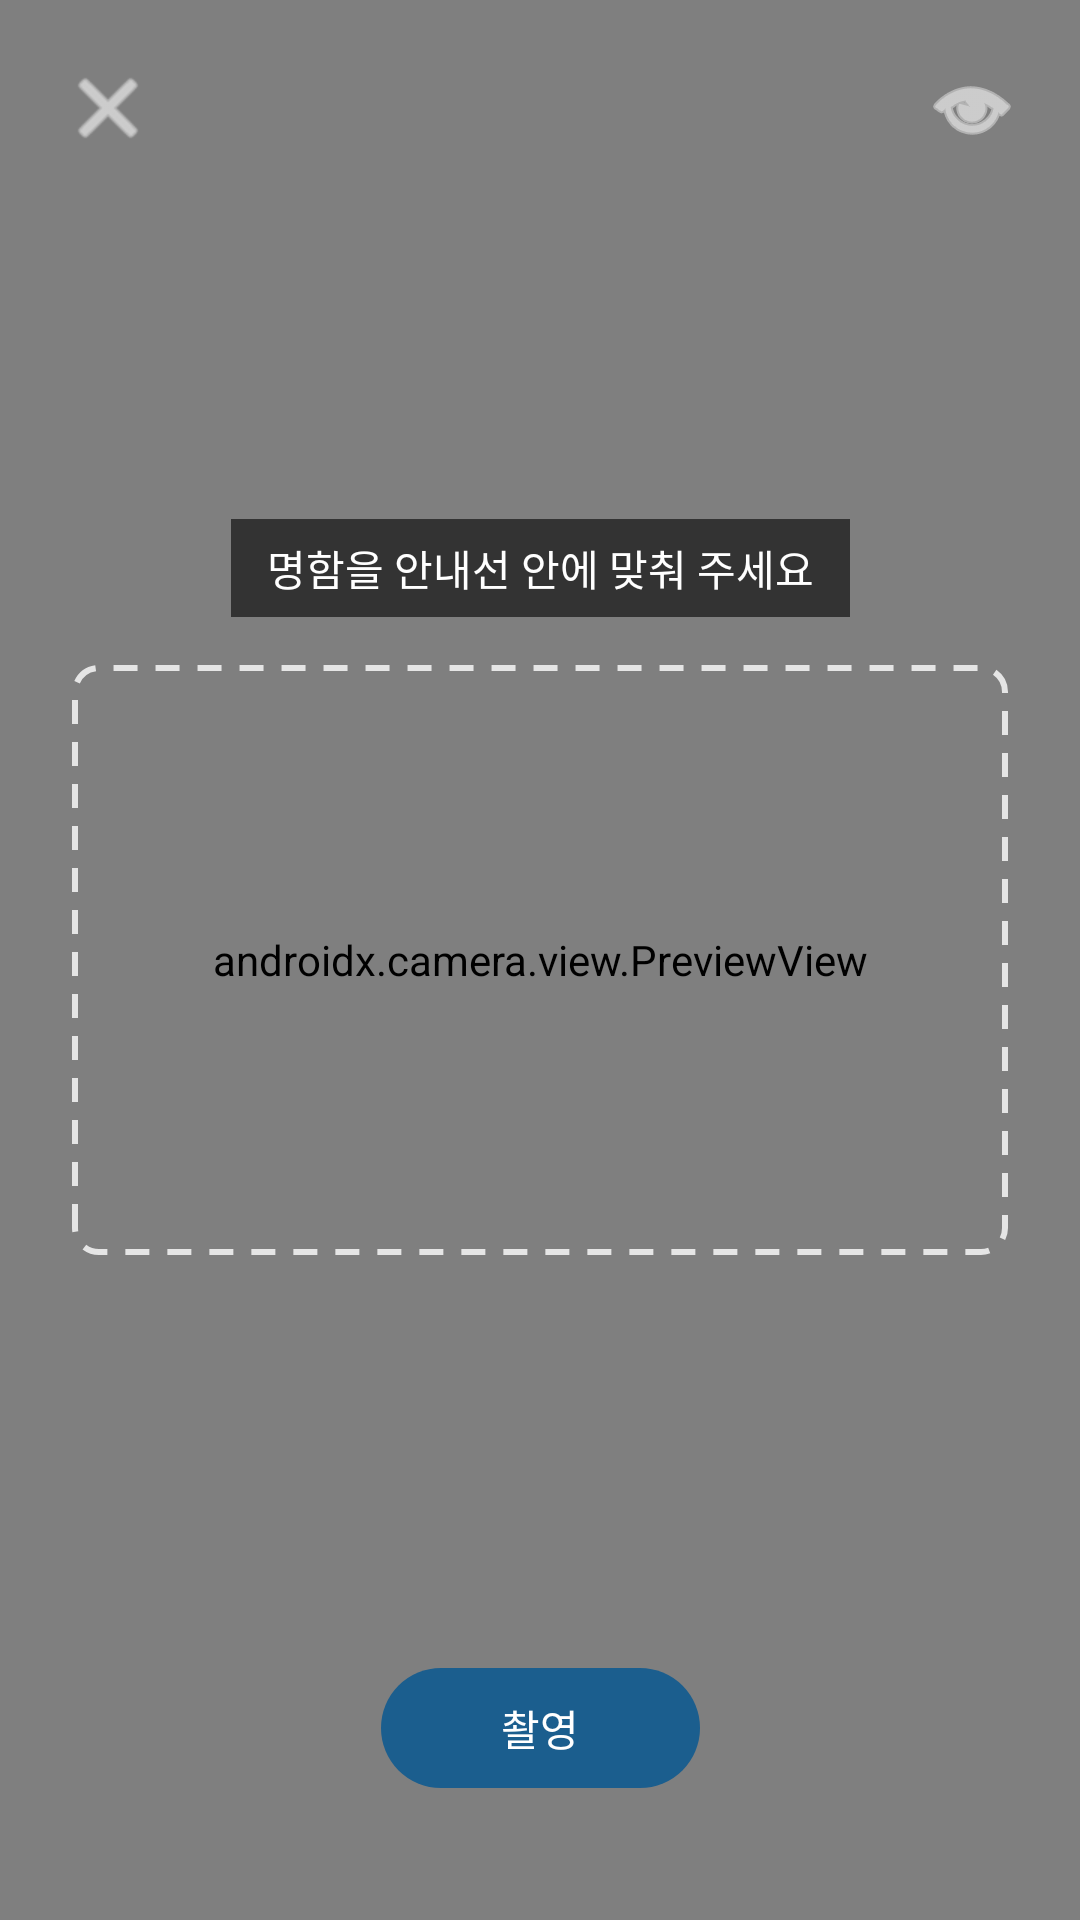

Named icons in this screenshot (1080px×1920px) and their centers, (x,y):
닫기: (108,108)
